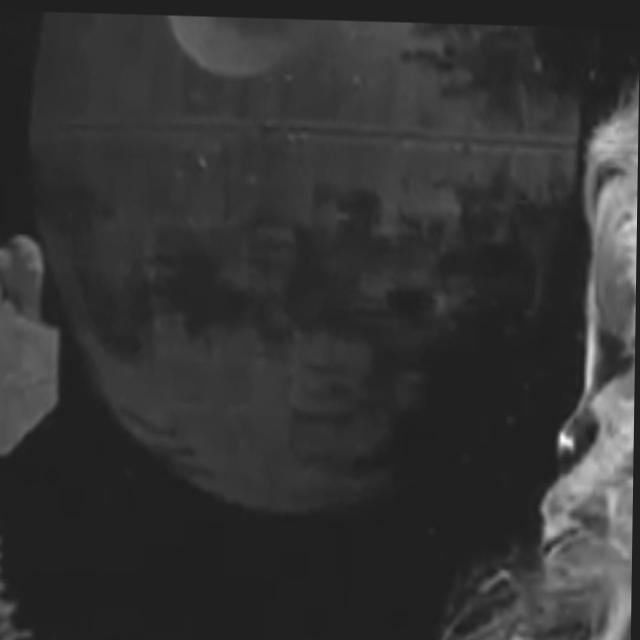death-stars: (30, 14, 574, 510)
